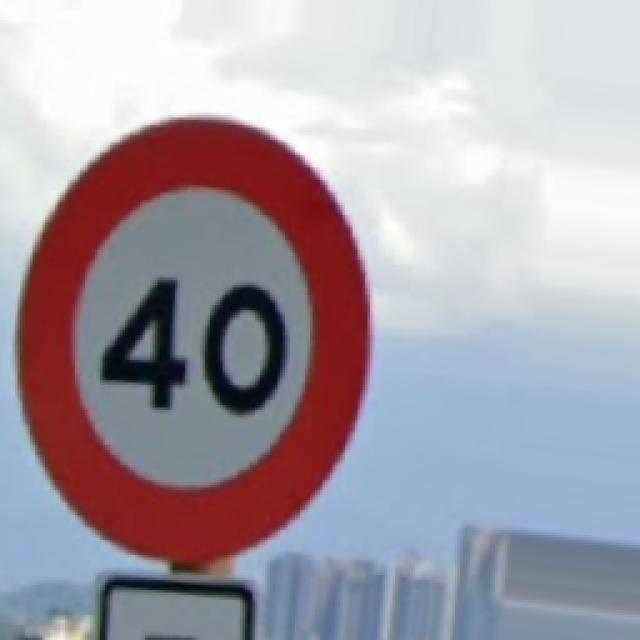Speed Limit -40-: (20, 120, 368, 560)
